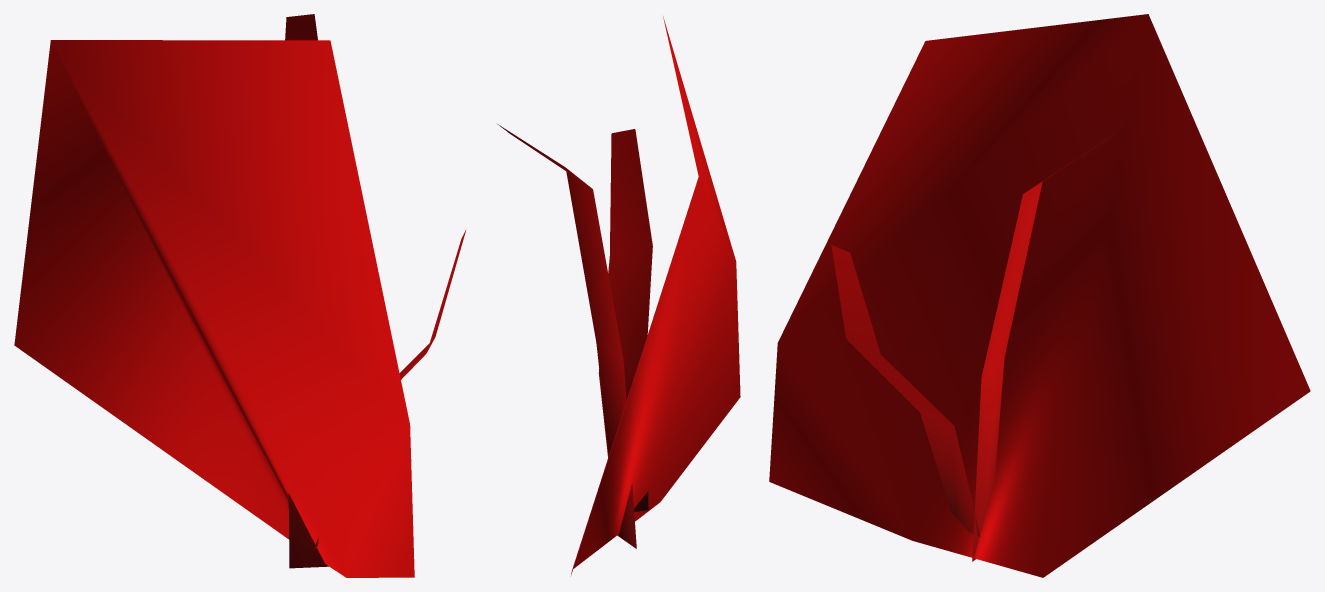
The model's file is SM_BarleyPlant_1.fbx.
3 views of the same model, side by side, from view 1: azimuth 30°, elevation 25°; view 2: azimuth 150°, elevation 25°; view 3: azimuth 270°, elevation 25° (orthographic). The views are drawn at different scales.
Parts seen in each view (by area): view 1: SM_BarleyPlant_1; view 2: SM_BarleyPlant_1; view 3: SM_BarleyPlant_1.
Boxes of the visible parts, x1,y1,x2,y2 form: SM_BarleyPlant_1: (14, 14, 465, 577); SM_BarleyPlant_1: (497, 16, 740, 576); SM_BarleyPlant_1: (769, 14, 1310, 577).
Bounding box in the file's own units: 0.1576 × 0.3322 × 0.3126.
